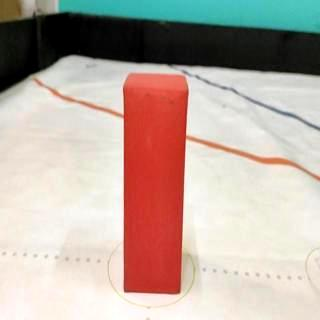redbox: (122, 72, 190, 294)
